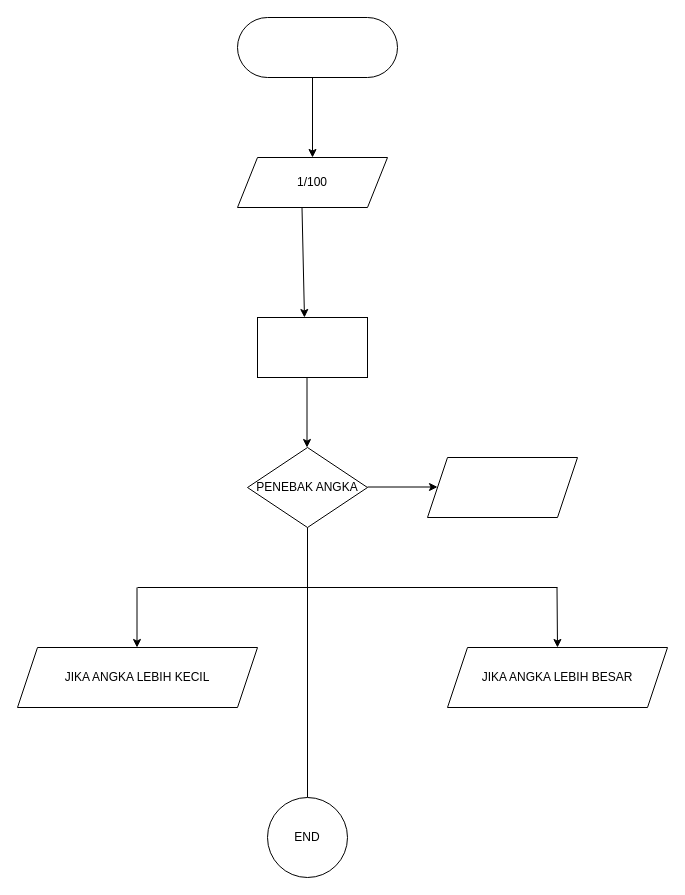
Image size: 685x895. Some labels were removed from this diagram. Each missing label, with the centre of its shape:
"JIKA JAWABAN BENAR" belongs at pixel 502 487.
"PROSES" belongs at pixel 312 347.
"START" belongs at pixel 317 47.
